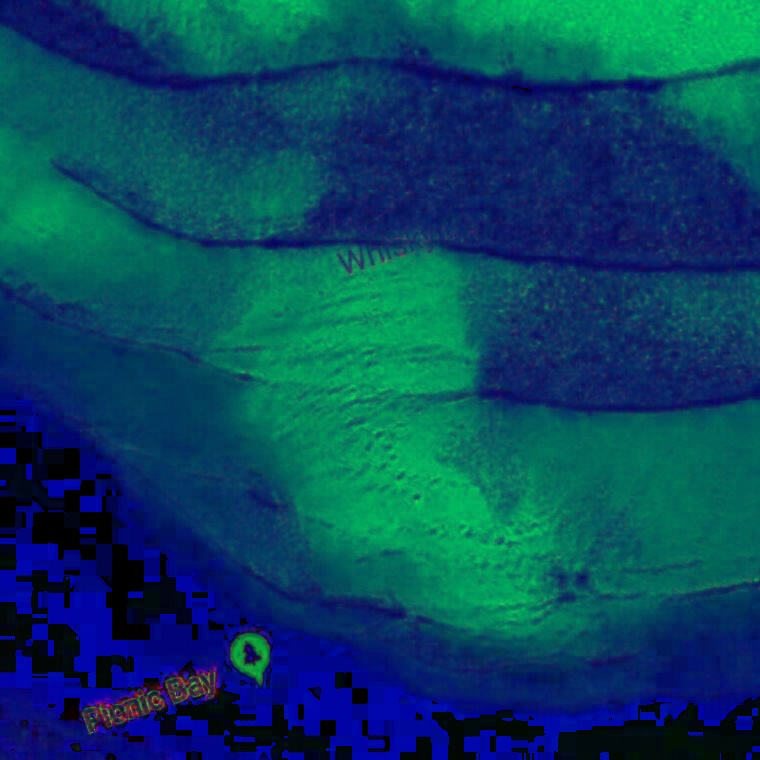rip_current: (191, 134, 630, 627)
